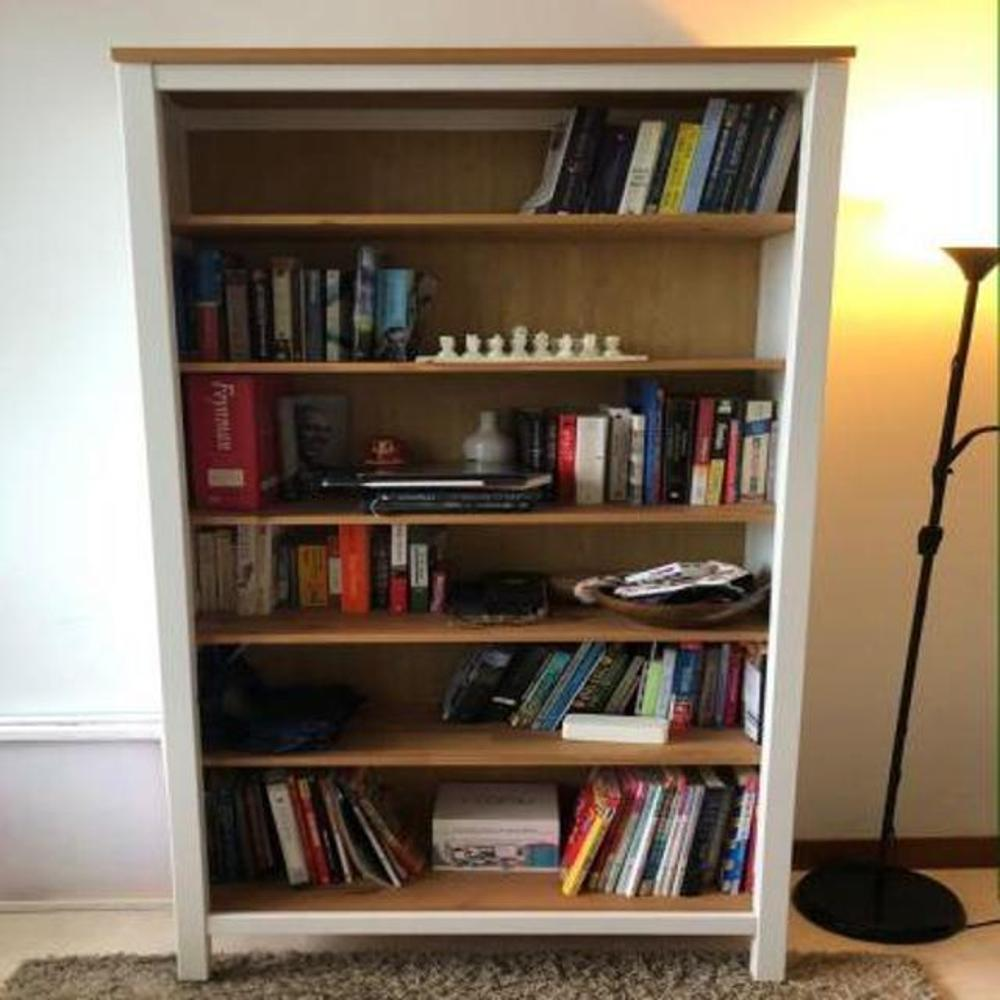lamp: (101, 41, 863, 988)
